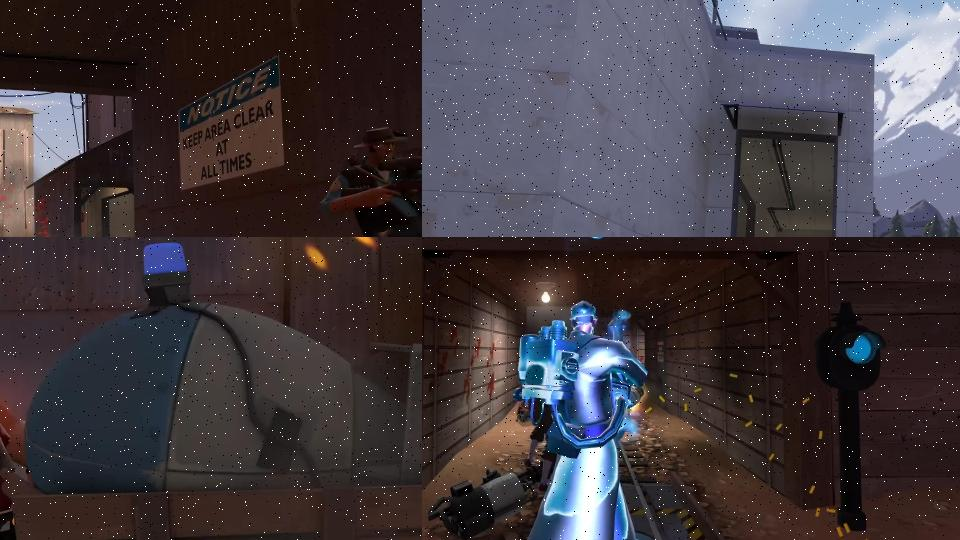Enemy: (510, 296, 652, 540), (317, 122, 422, 237)
